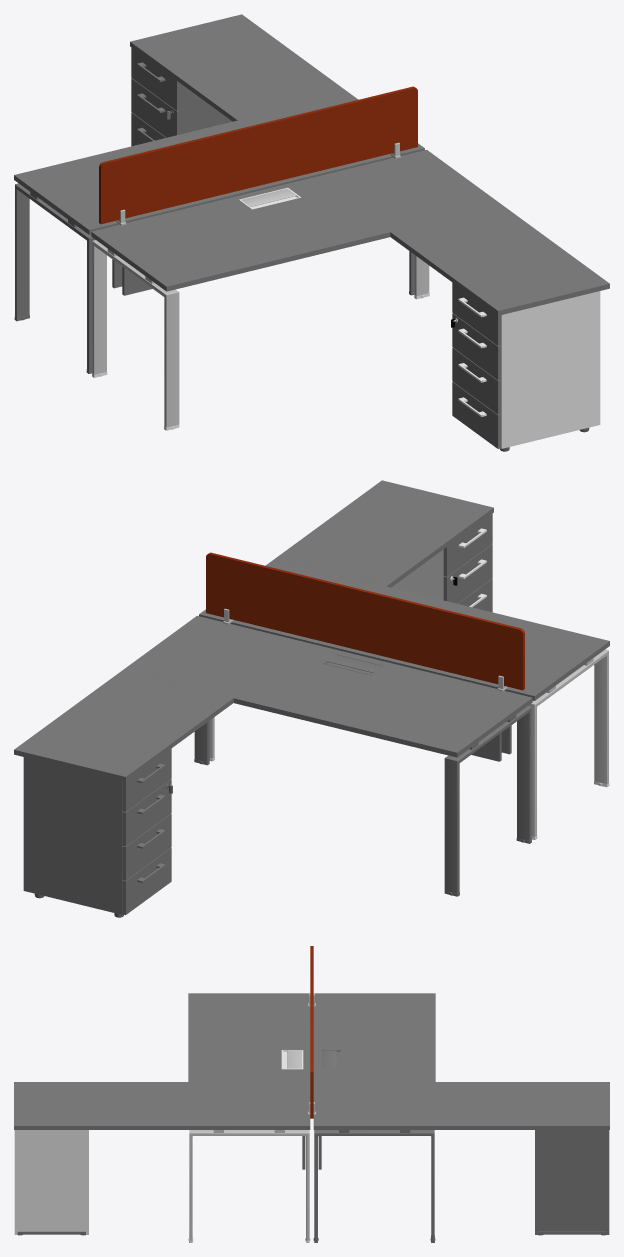
The model's file is Meja L.fbx.
The picture shows the model from 3 angles, top to bottom: view 1: azimuth 30°, elevation 25°; view 2: azimuth 150°, elevation 25°; view 3: azimuth 270°, elevation 25°; orthographic projection. The views are drawn at different scales.
Parts seen in each view (by area): view 1: Layer:Мебель (×5); view 2: Layer:Мебель (×5); view 3: Layer:Мебель (×5).
Boxes of the visible parts, x1,y1,x2,y2 form: Layer:Мебель (×5): [14, 14, 609, 451]; Layer:Мебель (×5): [14, 480, 609, 917]; Layer:Мебель (×5): [14, 946, 609, 1242].
Size of the model in its own units: 1800 by 1072 by 3418.
